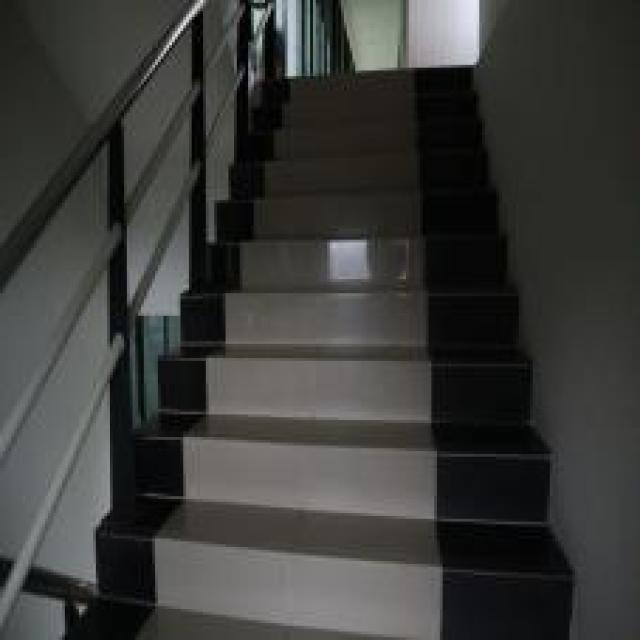upstair: (249, 69, 506, 638)
